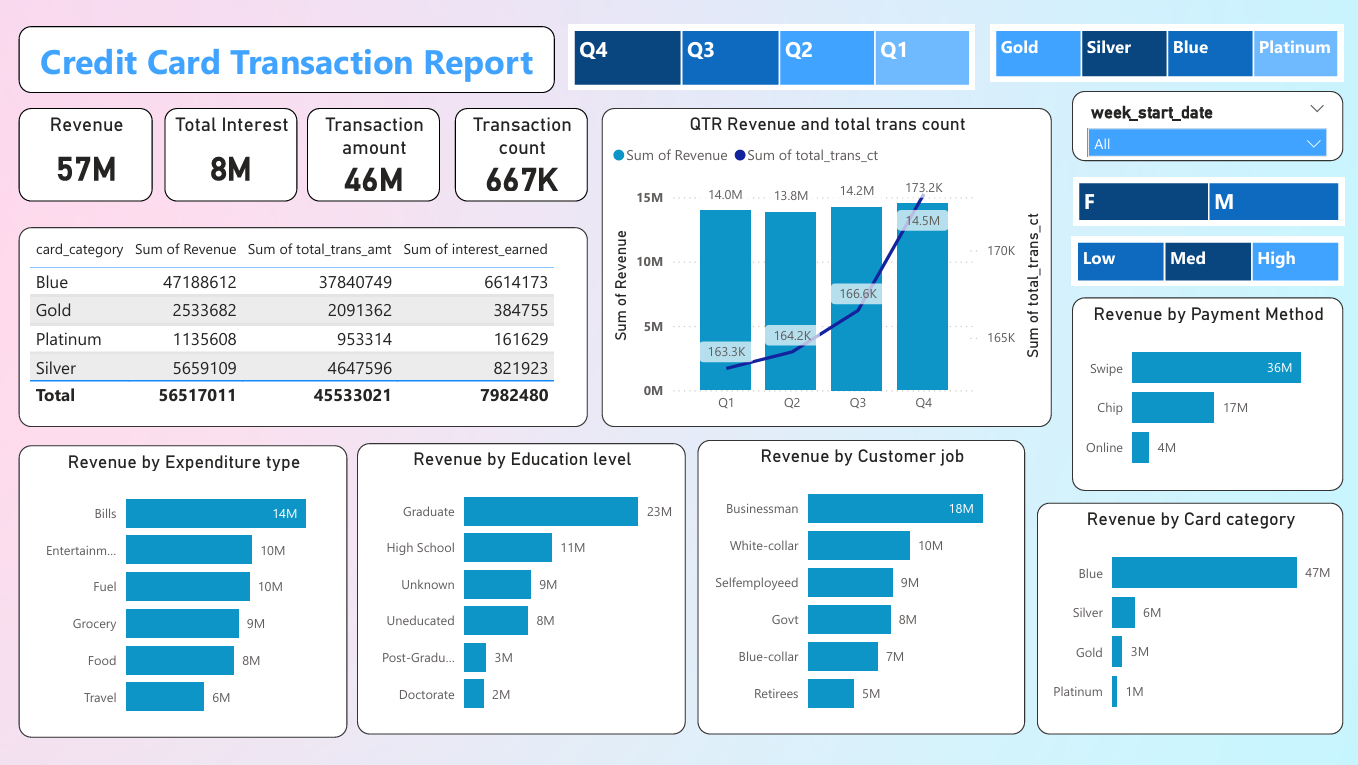

This screenshot's page, from the dashboard's own definition file:
{"tool":"powerbi","page":{"name":"CC Transaction","canvas":[1280,720],"ordinal":0},"visuals":[{"type":"textbox","box":[17.1,24.4,503.6,62.2],"z":0},{"type":"lineStackedColumnComboChart","title":"QTR Revenue and total trans count","fields":{"Category":["public cc_detail.qtr"],"Y":["Sum(public cc_detail.Revenue)"],"Y2":["Sum(public cc_detail.total_trans_ct)"]},"box":[564.5,101.2,423.1,299.9],"z":1000},{"type":"barChart","title":"Revenue by Expenditure type","fields":{"Y":["Sum(public cc_detail.Revenue)"],"Category":["public cc_detail.exp_type"]},"box":[17.1,418.2,308.5,274.3],"z":2000},{"type":"barChart","title":"Revenue by Education level","fields":{"Y":["Sum(public cc_detail.Revenue)"],"Category":["public cust_detail.education_level"]},"box":[335.3,415.8,308.5,274.3],"z":3000},{"type":"barChart","title":"Revenue by Customer job","fields":{"Y":["Sum(public cc_detail.Revenue)"],"Category":["public cust_detail.customer_job"]},"box":[654.8,413.3,308.5,276.8],"z":4000},{"type":"barChart","title":"Revenue by Card category","fields":{"Y":["Sum(public cc_detail.Revenue)"],"Category":["public cc_detail.card_category"]},"box":[974.2,471.9,287.8,218.3],"z":5000},{"type":"barChart","title":"Revenue by Payment Method","fields":{"Y":["Sum(public cc_detail.Revenue)"],"Category":["public cc_detail.use_chip"]},"box":[1007.1,279.2,254.8,181.7],"z":6000},{"type":"tableEx","fields":{"Values":["public cc_detail.card_category","Sum(public cc_detail.Revenue)","Sum(public cc_detail.total_trans_amt)","Sum(public cc_detail.interest_earned)"]},"box":[17.1,213.4,535.3,187.8],"z":7000},{"type":"card","title":"Revenue","fields":{"Values":["Sum(public cc_detail.Revenue)"]},"box":[17.1,101.2,125.6,87.8],"z":8000},{"type":"card","title":"Transaction amount","fields":{"Values":["Sum(public cc_detail.total_trans_amt)"]},"box":[287.8,101.2,125.6,87.8],"z":9000},{"type":"card","title":"Total Interest","fields":{"Values":["Sum(public cc_detail.interest_earned)"]},"box":[153.6,101.2,125.6,87.8],"z":10000},{"type":"card","title":"Transaction count","fields":{"Values":["Sum(public cc_detail.total_trans_ct)"]},"box":[426.7,101.2,125.6,87.8],"z":11000},{"type":"slicer","fields":{"Values":["public cc_detail.week_start_date"]},"box":[1007.1,85.3,254.8,65.8],"z":12000},{"type":"treemap","fields":{"Group":["public cc_detail.qtr"],"Values":["Avg(public cc_detail.client_num)"]},"box":[534,23.2,381.6,62.2],"z":13000},{"type":"treemap","fields":{"Values":["Avg(public cc_detail.client_num)"],"Group":["public cust_detail.gender"]},"box":[1008.3,165.8,254.8,46.3],"z":14000},{"type":"treemap","fields":{"Values":["Avg(public cc_detail.client_num)"],"Group":["public cc_detail.card_category"]},"box":[930.3,23.2,331.6,53.6],"z":15000},{"type":"treemap","fields":{"Values":["Avg(public cc_detail.client_num)"],"Group":["public cust_detail.IncomeGroup"]},"box":[1007.1,221.9,256,47.6],"z":16000}]}

Visuals, with their boxes in screenshot pixels (x1, y1, x2, y2), scaled from the page's 1280x720 canvas onto the 1358x765 screenshot:
textbox: BBox(18, 26, 552, 92)
"QTR Revenue and total trans count" lineStackedColumnComboChart: BBox(599, 108, 1048, 426)
"Revenue by Expenditure type" barChart: BBox(18, 444, 345, 736)
"Revenue by Education level" barChart: BBox(356, 442, 683, 733)
"Revenue by Customer job" barChart: BBox(695, 439, 1022, 733)
"Revenue by Card category" barChart: BBox(1034, 501, 1339, 733)
"Revenue by Payment Method" barChart: BBox(1068, 297, 1339, 490)
tableEx - public cc_detail.card_category x Sum(public cc_detail.Revenue): BBox(18, 227, 586, 426)
"Revenue" card: BBox(18, 108, 151, 201)
"Transaction amount" card: BBox(305, 108, 439, 201)
"Total Interest" card: BBox(163, 108, 296, 201)
"Transaction count" card: BBox(453, 108, 586, 201)
slicer - public cc_detail.week_start_date: BBox(1068, 91, 1339, 161)
treemap - public cc_detail.qtr x Avg(public cc_detail.client_num): BBox(567, 25, 971, 91)
treemap - Avg(public cc_detail.client_num) x public cust_detail.gender: BBox(1070, 176, 1340, 225)
treemap - Avg(public cc_detail.client_num) x public cc_detail.card_category: BBox(987, 25, 1339, 82)
treemap - Avg(public cc_detail.client_num) x public cust_detail.IncomeGroup: BBox(1068, 236, 1340, 286)
